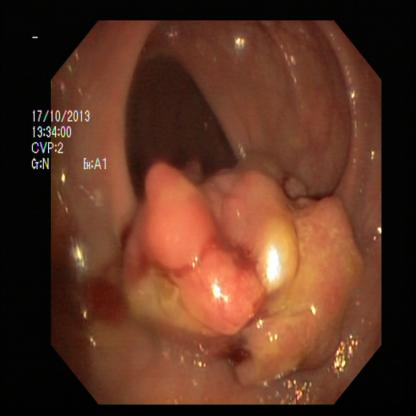Labels: (28, 96, 115, 181)
Polyps: (208, 149, 300, 296), (293, 199, 364, 368), (145, 150, 211, 267), (195, 243, 260, 342)
